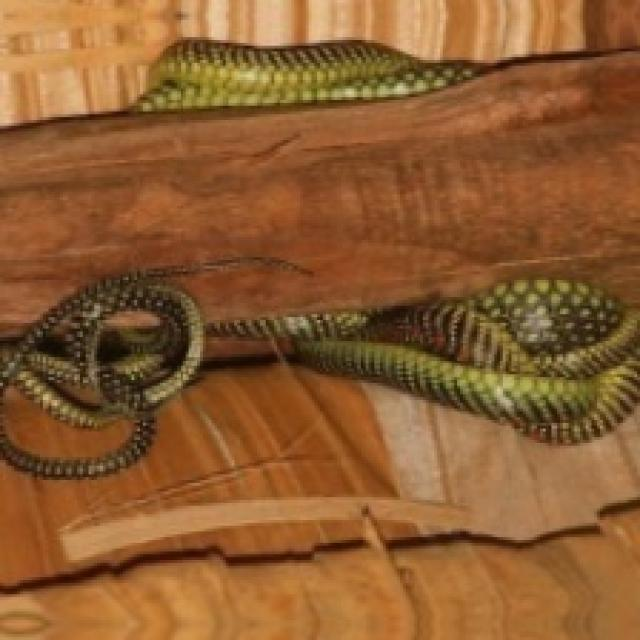paradise tree snake: (0, 54, 637, 331), (0, 257, 637, 474), (143, 366, 386, 477)
